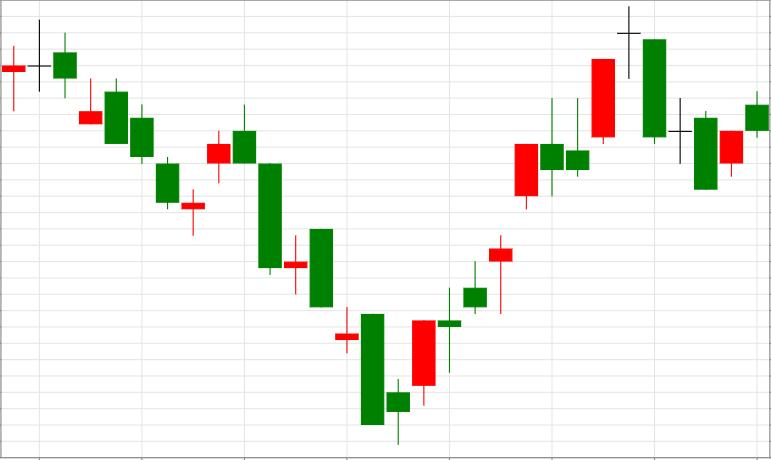evening_star_fall: (489, 6, 666, 314)
